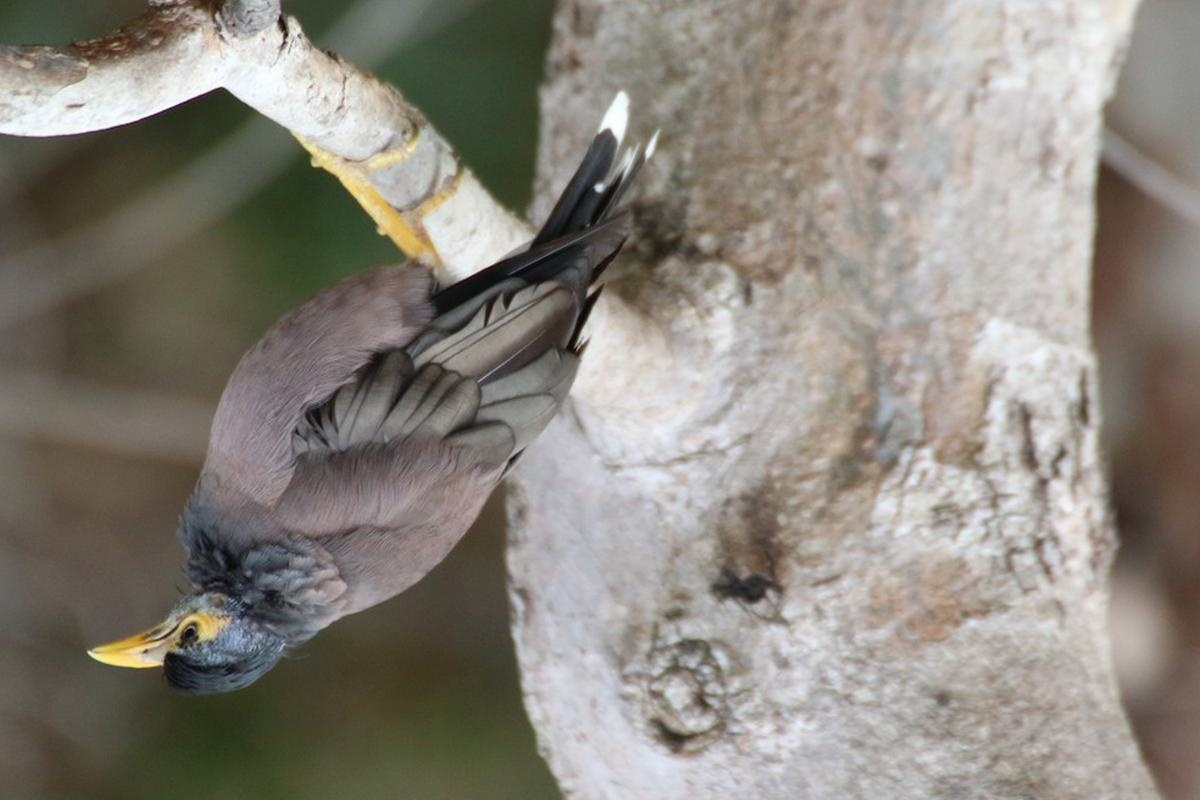myna: (89, 161, 604, 730)
